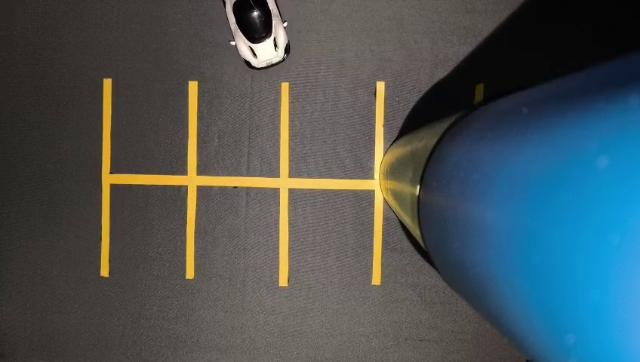toy_car: (203, 0, 337, 77)
